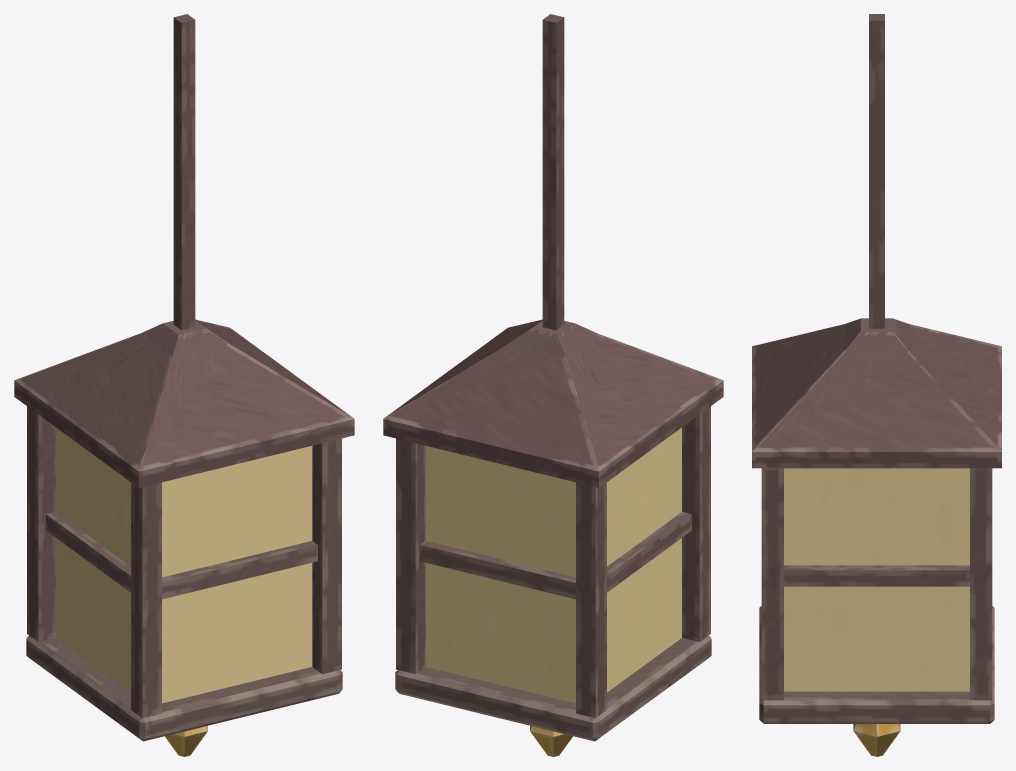
Rendered from lantern.fbx.
3 renders of one model, left to right at view 1: azimuth 30°, elevation 25°; view 2: azimuth 150°, elevation 25°; view 3: azimuth 270°, elevation 25°, orthographic.
Parts seen in each view (by area): view 1: lantern; view 2: lantern; view 3: lantern.
Boxes of the visible parts, x1,y1,x2,y2 form: lantern: (14, 14, 354, 756); lantern: (383, 14, 723, 756); lantern: (752, 14, 1001, 756).
Bounding box in the file's own units: 1.1 × 3.59 × 1.1.
1 material, 1 textured.
